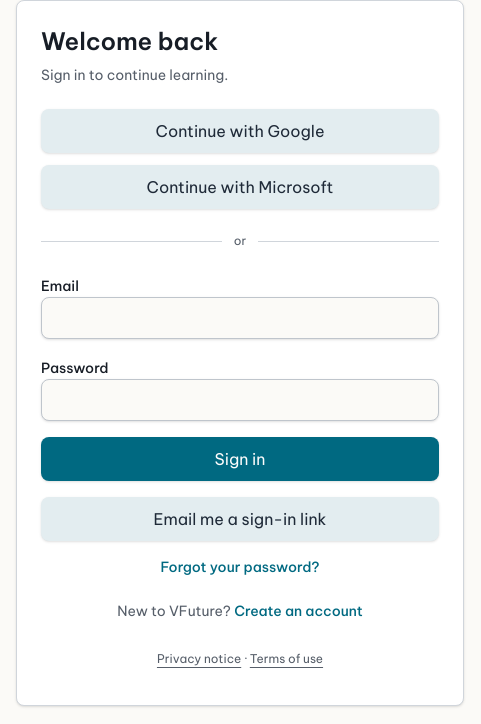
Test case: authentication and onboarding › blocks other sign-in methods while Microsoft sign-in is pending
The width and height of the screenshot is (481, 724).
Click the button "Continue with Microsoft". click: {"x": 240, "y": 187}
box: [41, 165, 439, 209]
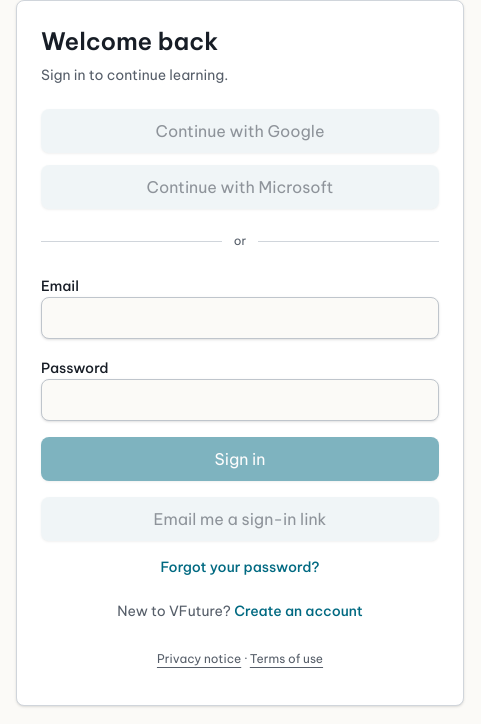
Now the button "Continue with Microsoft" is disabled, box [41, 165, 439, 209]
Now the button "Continue with Google" is disabled
Now the button "Sign in" is disabled, box [41, 437, 439, 481]
Click the button "Continue with Google". click: {"x": 240, "y": 131}
box: [41, 109, 439, 153]
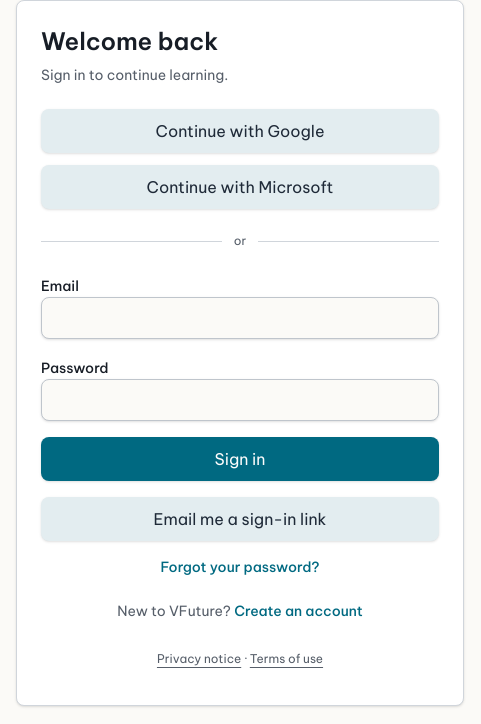
Now the button "Continue with Microsoft" is enabled, box [41, 165, 439, 209]
